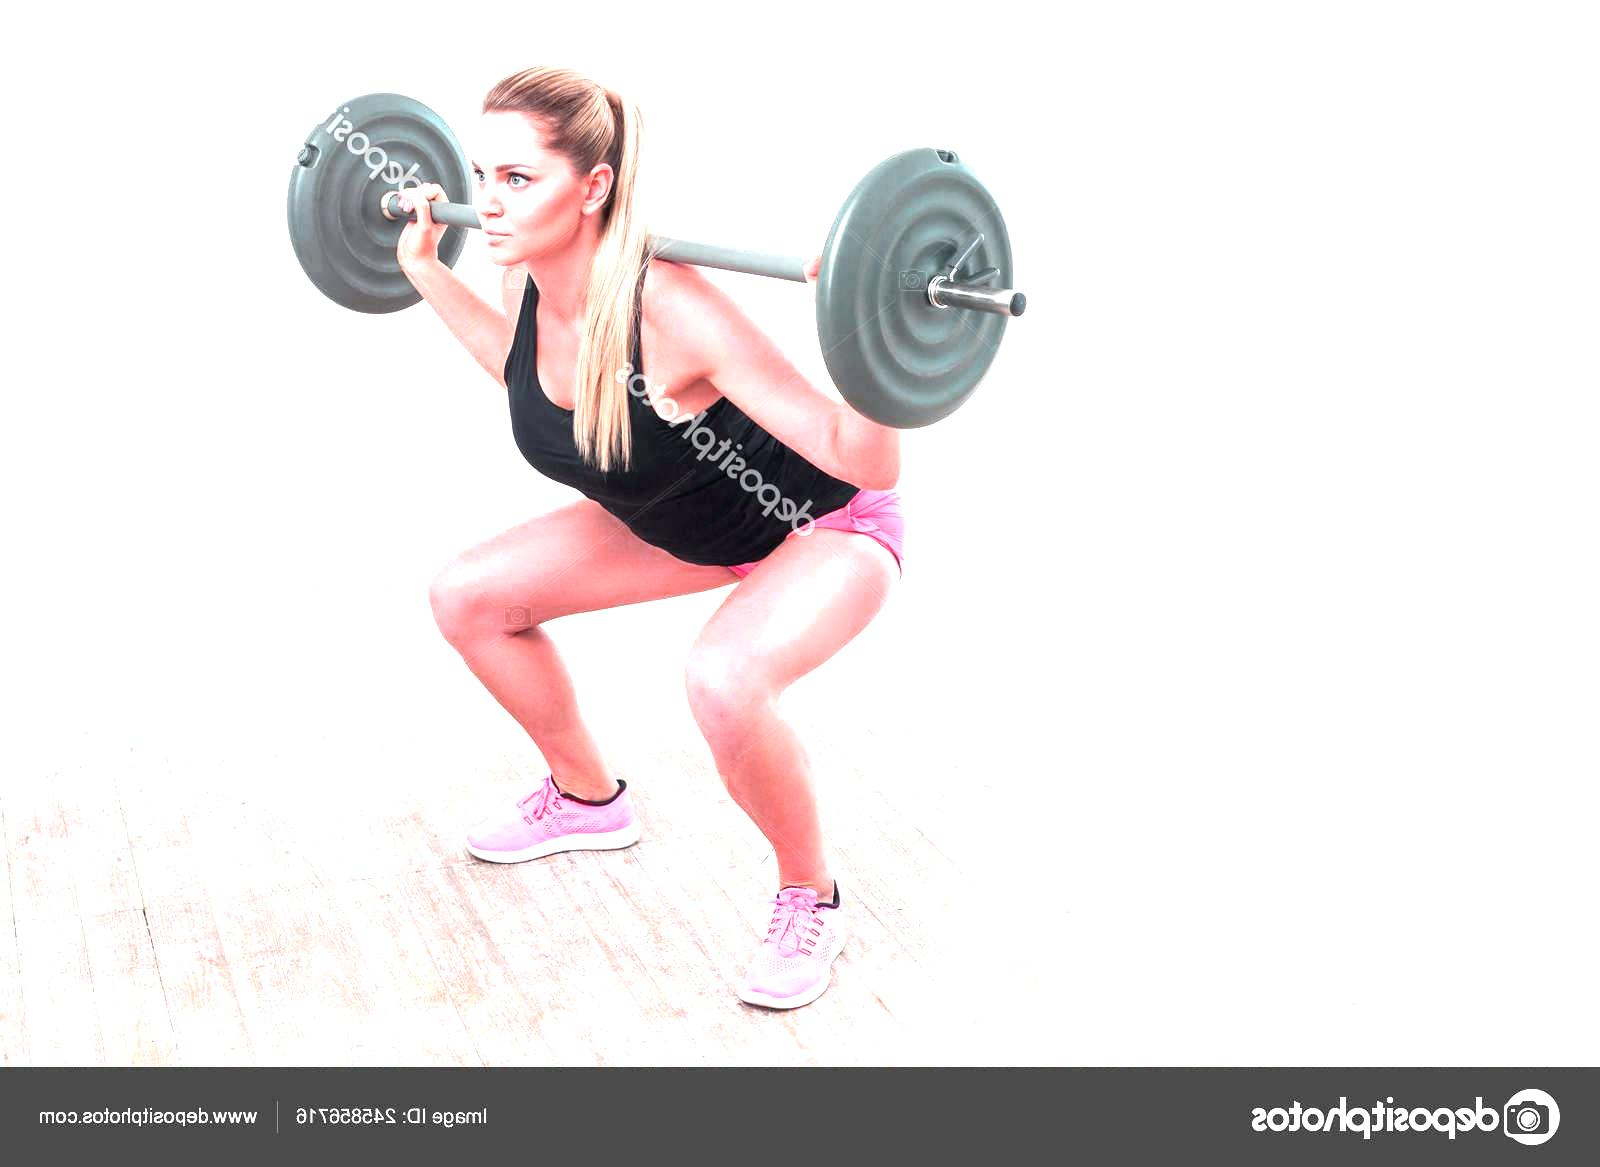Barbell: (1001, 288, 1034, 324)
